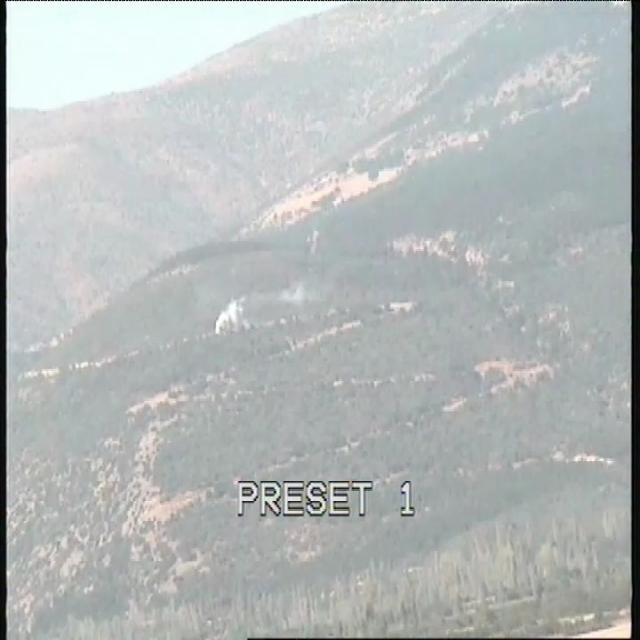smoke: (213, 291, 271, 335)
